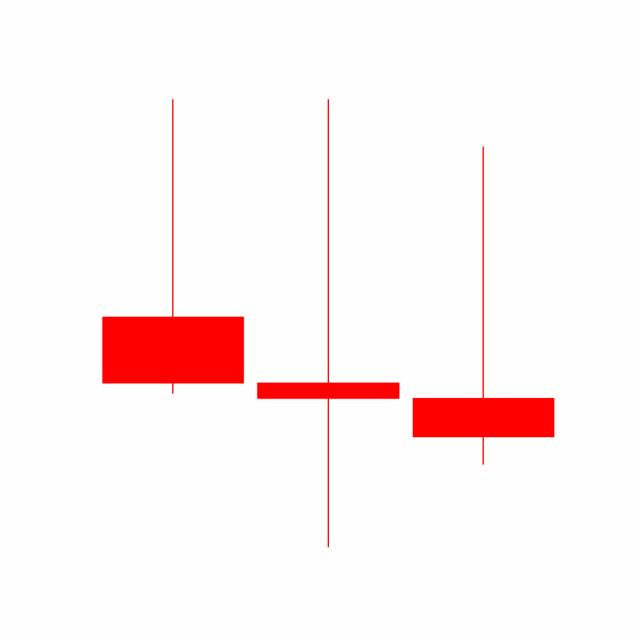Gravestone Doji: (405, 142, 561, 468)
